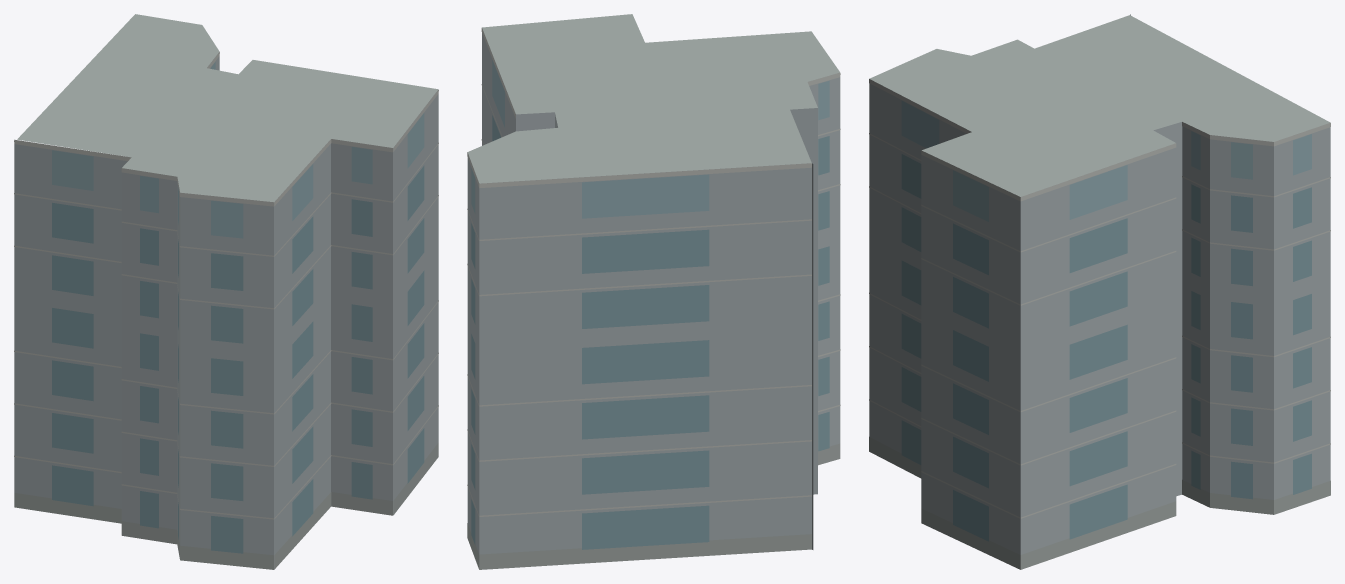
Rendered from survey-upis-32731084.glb.
The picture shows the model from 3 angles, left to right: view 1: azimuth 30°, elevation 25°; view 2: azimuth 150°, elevation 25°; view 3: azimuth 270°, elevation 25°; orthographic projection. The views are drawn at different scales.
Parts seen in each view (by area): view 1: survey-upis-32731084.tmp; view 2: survey-upis-32731084.tmp; view 3: survey-upis-32731084.tmp.
Boxes of the visible parts, x1=… form: survey-upis-32731084.tmp: x1=14, y1=14, x2=438, y2=569; survey-upis-32731084.tmp: x1=467, y1=14, x2=840, y2=569; survey-upis-32731084.tmp: x1=869, y1=14, x2=1330, y2=569.
Size of the model in its own units: 21.6 by 20.5 by 23.02.
